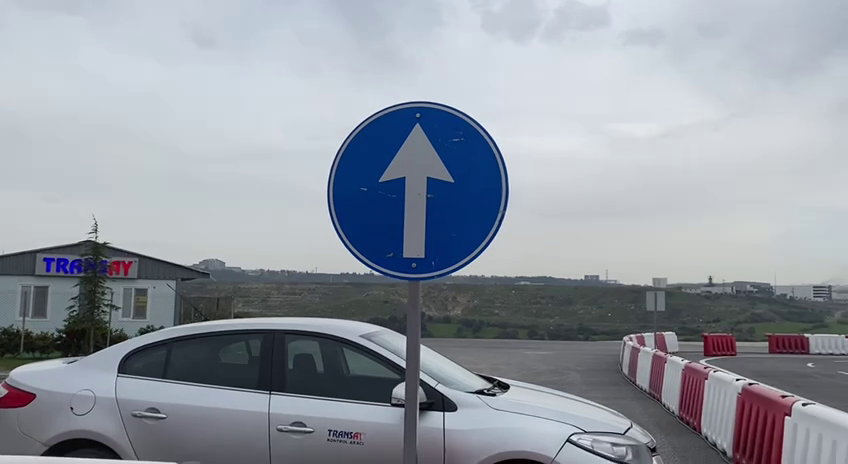forward: (321, 94, 516, 288)
